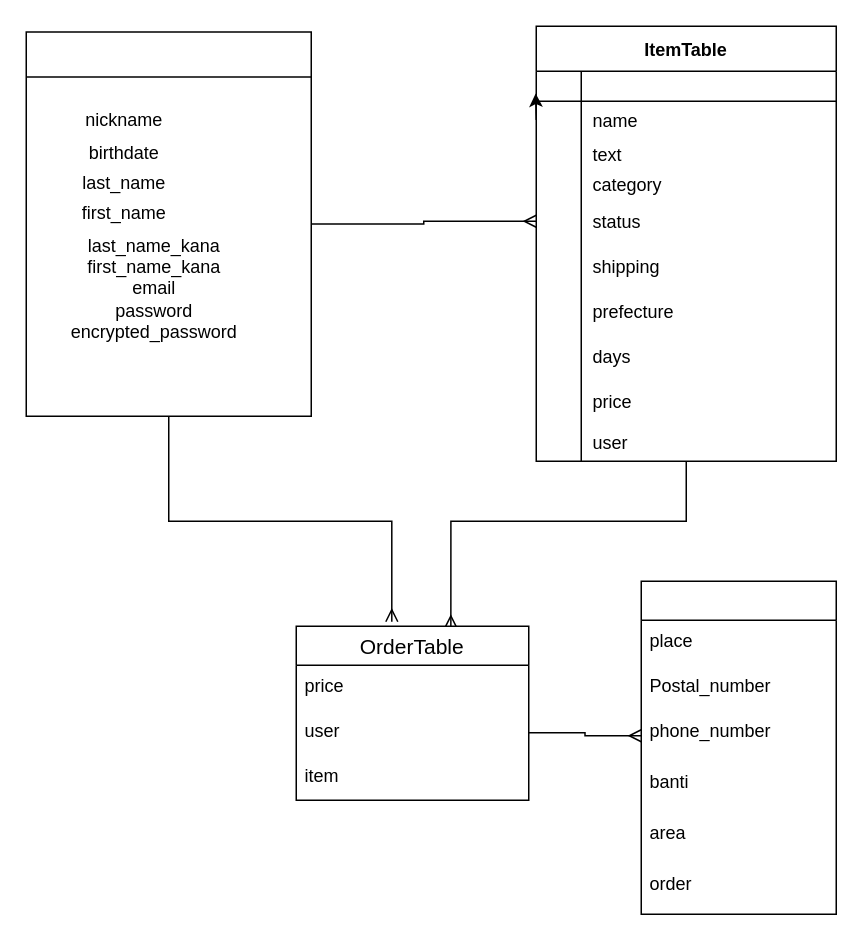
Image size: 863x945. Some labels were removed from this diagram. Here are the shapes that lost their labels. From the top down, the box of each, then its label:
(25, 30, 311, 416): UserTable
(640, 580, 836, 914): adressTable
